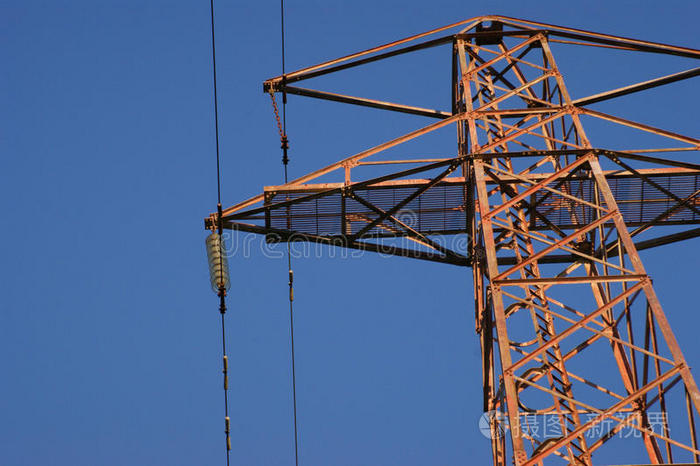insulator: (204, 232, 229, 295)
